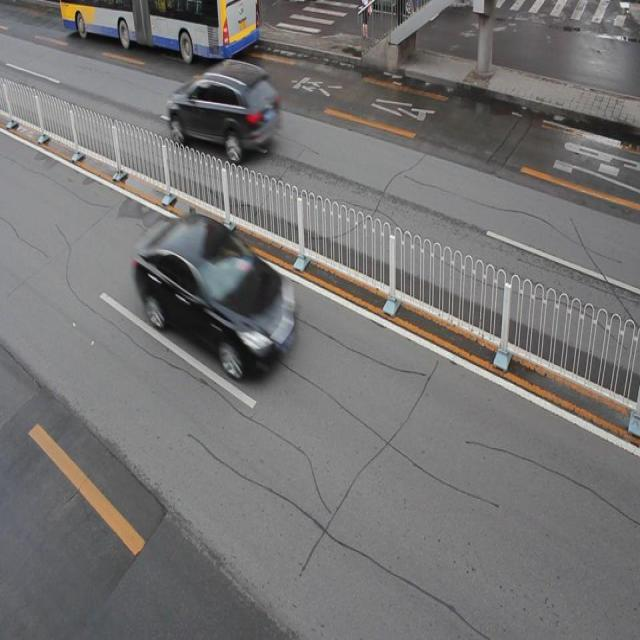car: (132, 210, 296, 378), (168, 59, 280, 159)
van: (59, 1, 258, 57)
